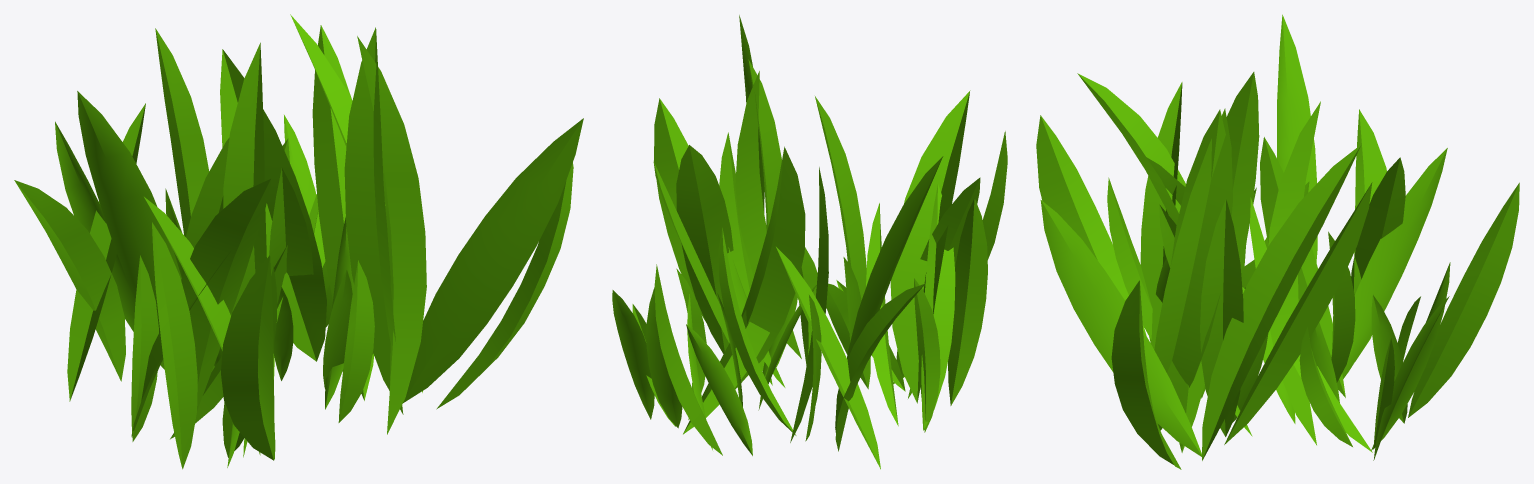
Rendered from grass_smaller_area.fbx.
3 renders of one model, left to right at view 1: azimuth 30°, elevation 25°; view 2: azimuth 150°, elevation 25°; view 3: azimuth 270°, elevation 25°, orthographic. The views are drawn at different scales.
Visible parts, largest first — view 1: Cloner_smol_1; view 2: Cloner_smol_1; view 3: Cloner_smol_1.
Boxes of the visible parts, x1,y1,x2,y2 form: Cloner_smol_1: (14, 14, 583, 469); Cloner_smol_1: (612, 15, 1007, 469); Cloner_smol_1: (1036, 14, 1519, 469).
Bounding box in the file's own units: 160 × 132 × 167.
